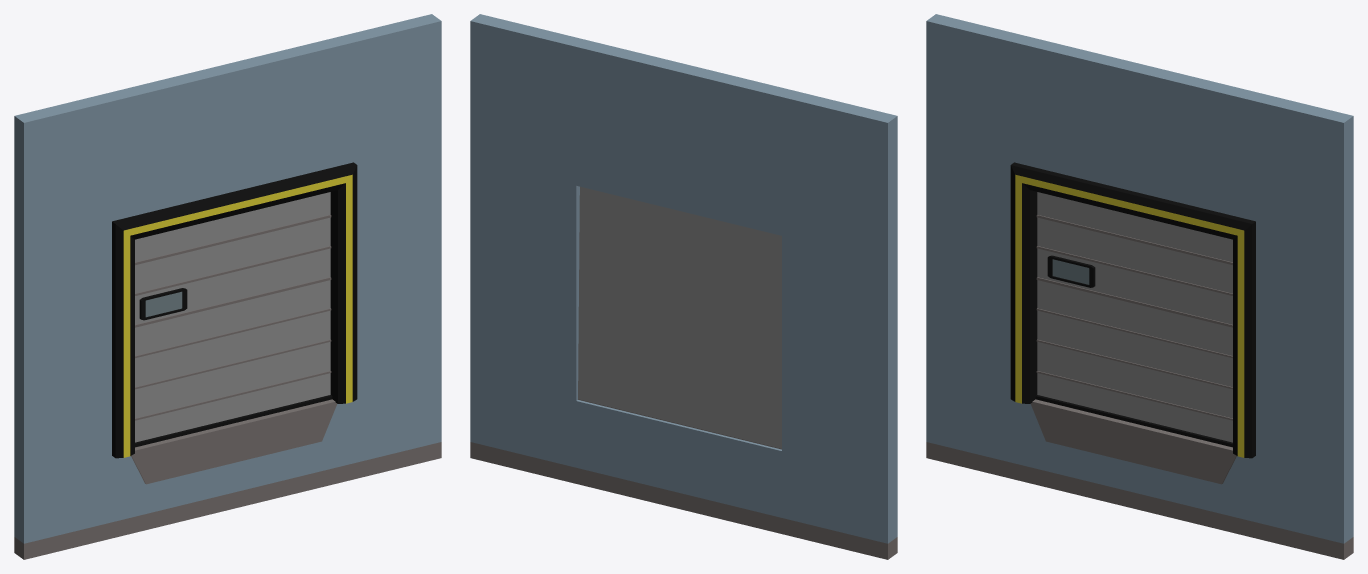
The model's file is wallLoadingBay.fbx.
The picture shows the model from 3 angles, left to right: view 1: azimuth 30°, elevation 25°; view 2: azimuth 150°, elevation 25°; view 3: azimuth 330°, elevation 25°; orthographic projection.
Visible parts, largest first — view 1: Wall - Loading Bay; view 2: Wall - Loading Bay; view 3: Wall - Loading Bay.
Boxes of the visible parts, x1,y1,x2,y2 form: Wall - Loading Bay: (14, 14, 441, 559); Wall - Loading Bay: (470, 14, 897, 559); Wall - Loading Bay: (926, 14, 1353, 559).
Size of the model in its own units: 400 by 24.87 by 400.
